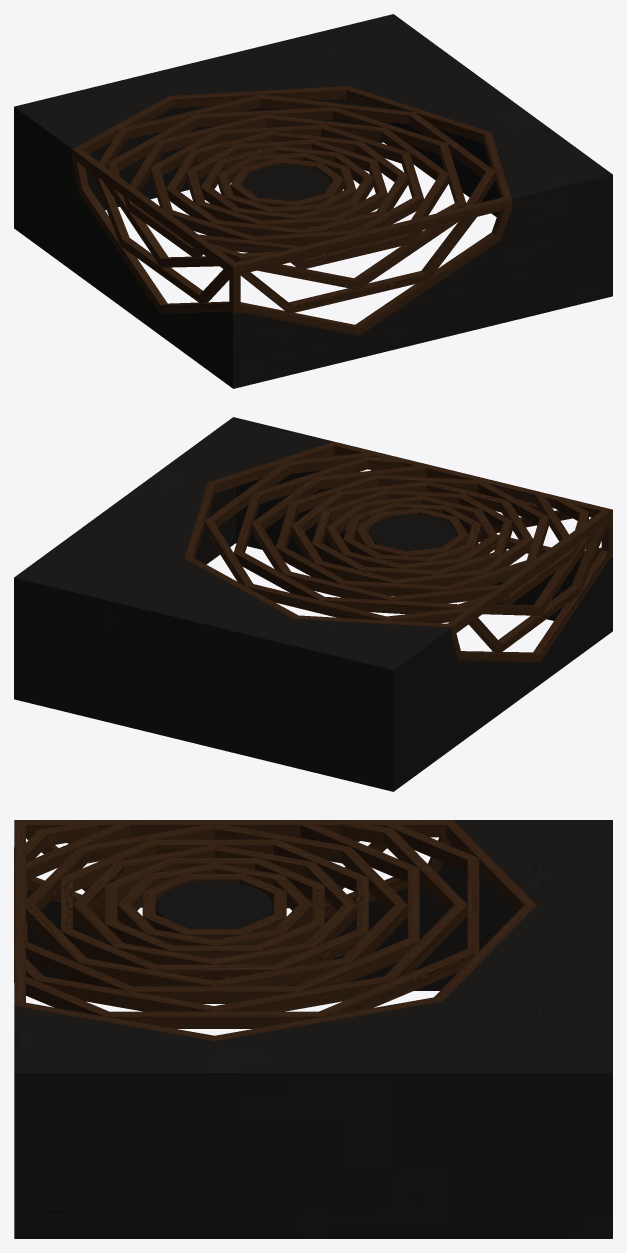
File: modern_coffee_table_02.glb
The picture shows the model from 3 angles, top to bottom: view 1: azimuth 30°, elevation 25°; view 2: azimuth 150°, elevation 25°; view 3: azimuth 270°, elevation 25°; orthographic projection. The views are drawn at different scales.
Visible parts, largest first — view 1: modern_coffee_table_02; view 2: modern_coffee_table_02; view 3: modern_coffee_table_02.
Part boxes in pixels (box(x1,y1,x2,y2)): modern_coffee_table_02: box(14, 14, 612, 388); modern_coffee_table_02: box(14, 417, 612, 791); modern_coffee_table_02: box(14, 820, 612, 1238).
Bounding box in the file's own units: 1.2 × 0.3692 × 1.2.
2 materials, 2 textured.
